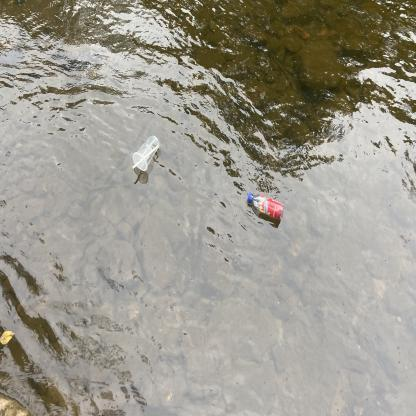trash: (127, 129, 164, 178), (244, 187, 286, 227)
